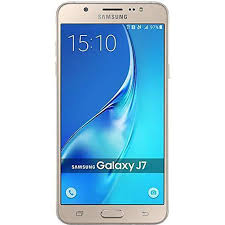samsung: (53, 1, 172, 225)
